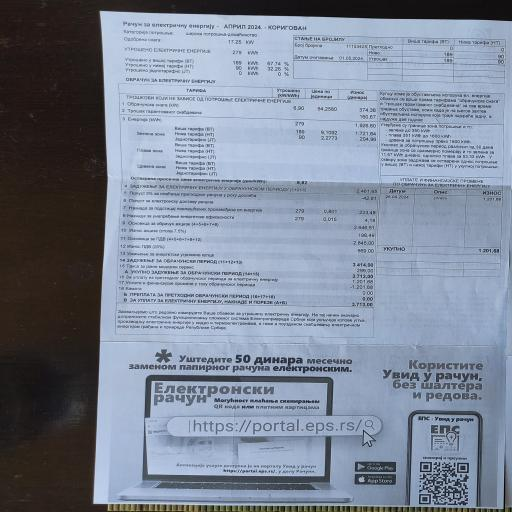racun_za_struju: (120, 75, 381, 195)
